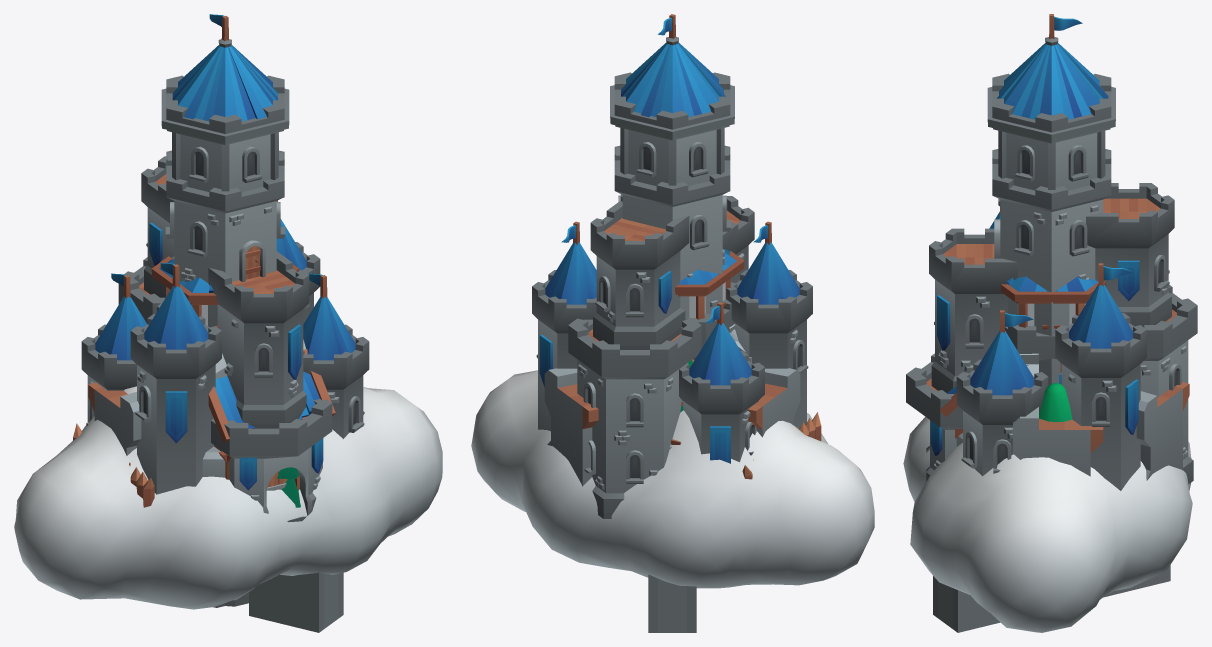
The model's file is world.glb.
The picture shows the model from 3 angles, left to right: view 1: azimuth 30°, elevation 25°; view 2: azimuth 150°, elevation 25°; view 3: azimuth 270°, elevation 25°; orthographic projection. The views are drawn at different scales.
Visible parts, largest first — view 1: building_castle_blue, cloud_big, building_bridge_A, building_watermill_blue, building_tower_A_top_blue, wall_straight, wall_corner_A_outside, fence_wood_straight; view 2: building_castle_blue, cloud_big, wall_corner_A_outside, building_bridge_A, building_tower_A_top_blue, wall_straight, building_tower_A_blue; view 3: building_castle_blue, cloud_big, wall_corner_A_outside, wall_straight, building_tower_A_top_blue, building_bridge_A, building_tower_A_blue, trees_B_medium.
Part boxes in pixels (bbox=[...]): building_castle_blue: bbox=[81, 14, 369, 521]; cloud_big: bbox=[14, 386, 442, 609]; building_bridge_A: bbox=[213, 572, 343, 632]; building_watermill_blue: bbox=[208, 349, 335, 479]; building_tower_A_top_blue: bbox=[151, 256, 299, 328]; wall_straight: bbox=[88, 385, 141, 455]; wall_corner_A_outside: bbox=[88, 382, 136, 444]; fence_wood_straight: bbox=[73, 423, 154, 507]; building_castle_blue: bbox=[532, 14, 812, 518]; cloud_big: bbox=[471, 370, 874, 588]; wall_corner_A_outside: bbox=[544, 357, 800, 486]; building_bridge_A: bbox=[648, 574, 696, 632]; building_tower_A_top_blue: bbox=[675, 249, 744, 319]; wall_straight: bbox=[753, 368, 795, 436]; building_tower_A_blue: bbox=[681, 299, 734, 348]; building_castle_blue: bbox=[906, 14, 1197, 490]; cloud_big: bbox=[903, 417, 1192, 632]; wall_corner_A_outside: bbox=[1136, 381, 1189, 480]; wall_straight: bbox=[1013, 407, 1103, 476]; building_tower_A_top_blue: bbox=[1000, 276, 1105, 329]; building_bridge_A: bbox=[933, 565, 1170, 632]; building_tower_A_blue: bbox=[1005, 324, 1061, 384]; trees_B_medium: bbox=[1039, 383, 1072, 421].
Bounding box in the file's own units: 3.61 × 4.98 × 2.28.
Materials: 1 (1 with a texture image).
